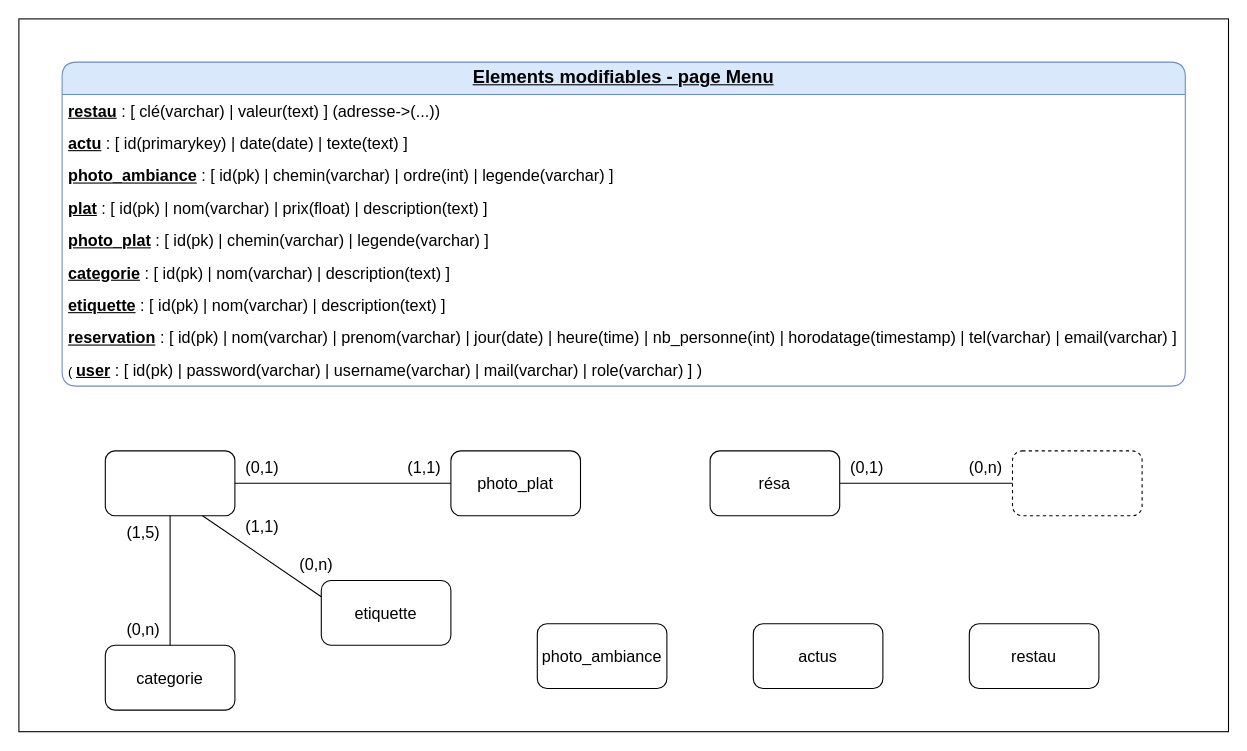
Image size: 1247x751. Some labels were removed from this diagram. Here are the shapes that lost their labels. From the top down, the centre of each, then its label:
At point (169, 483): "plat".
At point (1076, 483): "user".
